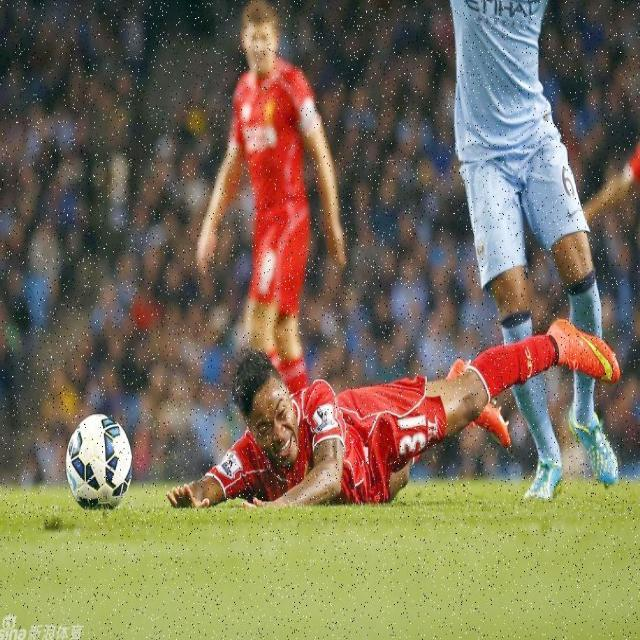fall: (176, 348, 554, 504)
